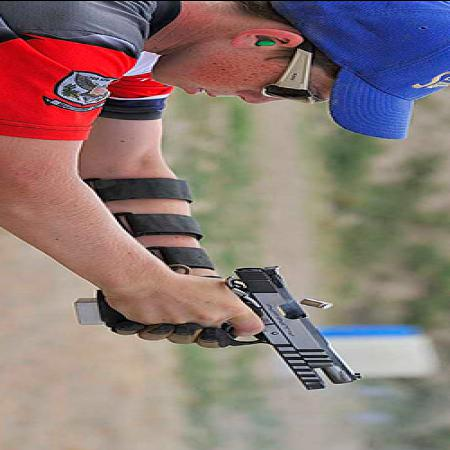Pistol: (73, 263, 372, 391)
